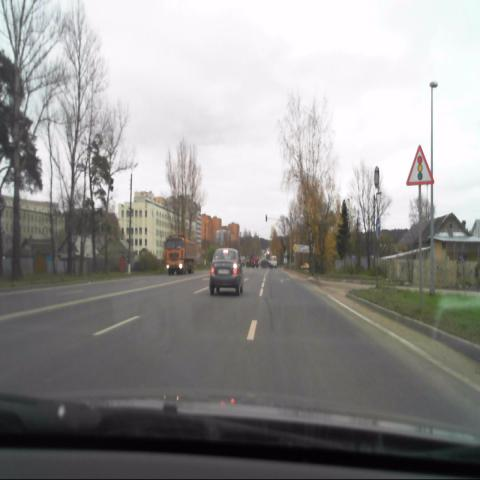1_8: (405, 143, 435, 186)
